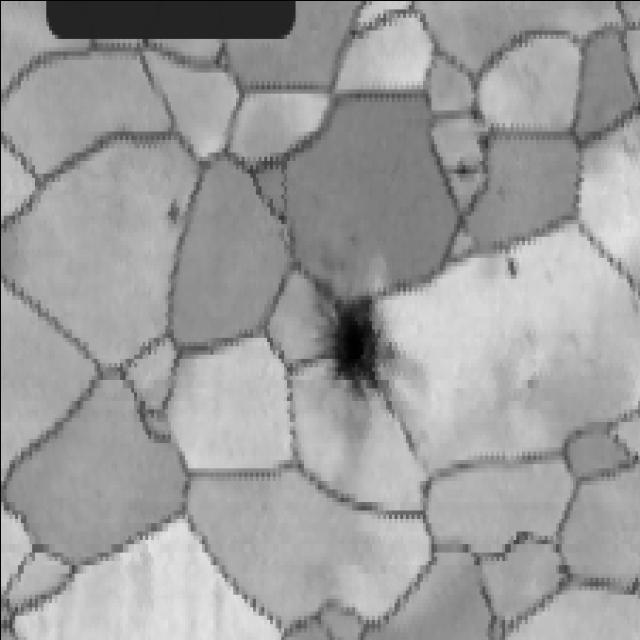good_void: (317, 291, 396, 408), (493, 247, 526, 290), (164, 195, 182, 233)
